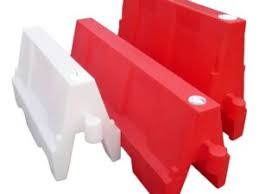barrier: (72, 18, 226, 193), (120, 1, 246, 140), (10, 26, 122, 179)
